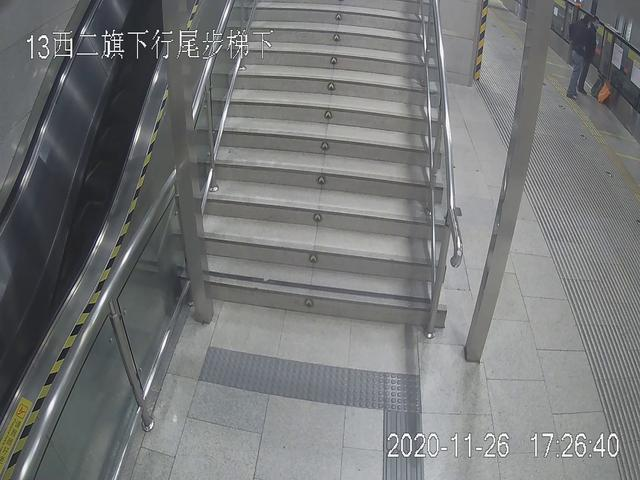person: (562, 10, 592, 99), (578, 13, 602, 92)
